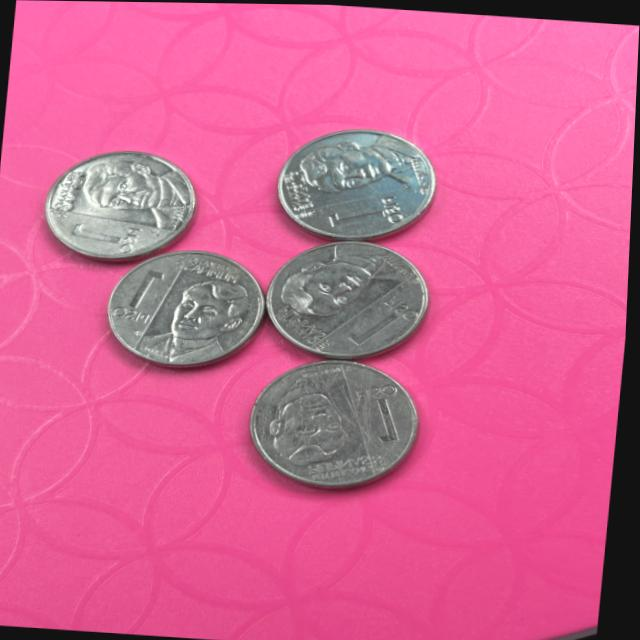1_New_Front: (349, 288, 418, 355), (110, 254, 171, 326), (352, 372, 412, 445), (324, 189, 411, 238), (60, 214, 151, 254)
